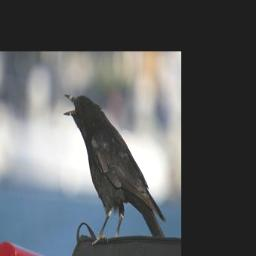Crow: (62, 90, 168, 249)
